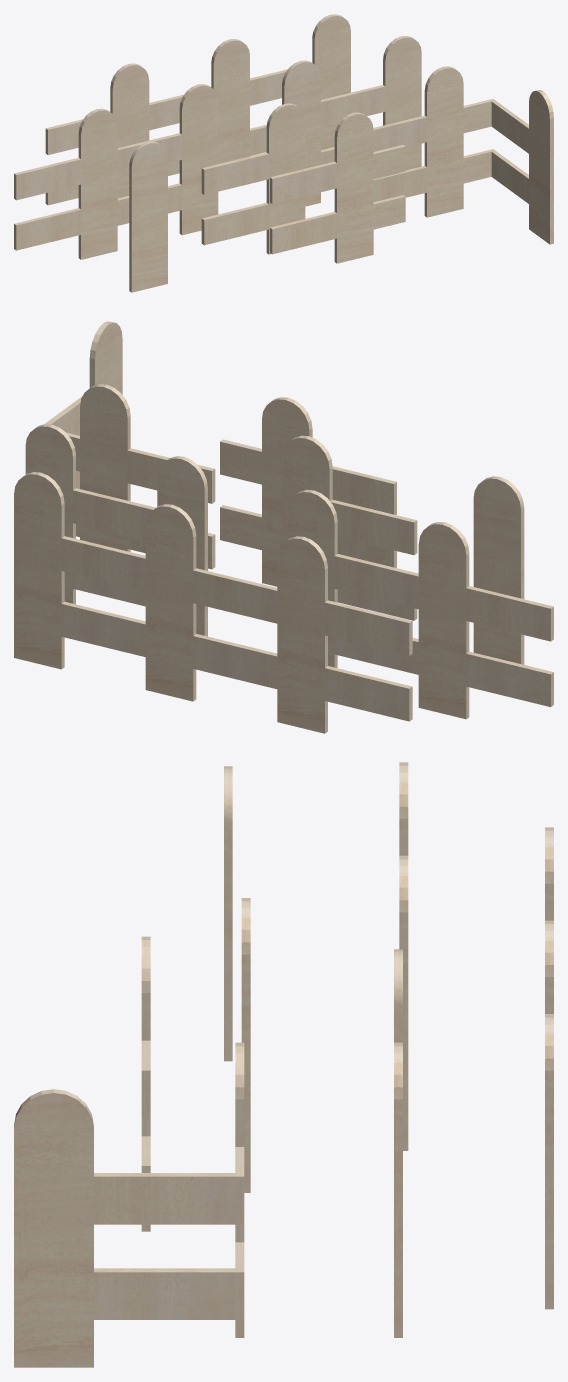
Rendered from Mom_Model_PopsicleFence_Vang.fbx.
3 views of the same model, one above another, from view 1: azimuth 30°, elevation 25°; view 2: azimuth 150°, elevation 25°; view 3: azimuth 270°, elevation 25° (orthographic). The views are drawn at different scales.
Visible parts, largest first — view 1: popsicleshort12, popsicleshort5, popsicleshort7, popsicleshort3, popsicleshort8, popsicleshort6, popsicleshort4, popsicleshort1, popsicleshort10, popsicleshort9, popsicleshort11, popsicleshort2; view 2: popsicleshort7, popsicleshort11, popsicleshort10, popsicleshort9, popsicleshort12, popsicleshort5, popsicleshort8, popsicleshort4, popsicleshort1, popsicleshort3, popsicleshort2, popsicleshort6; view 3: popsicleshort6, popsicleshort5, popsicleshort1, popsicleshort4, popsicleshort9, popsicleshort3, popsicleshort12, popsicleshort8, popsicleshort7, popsicleshort2, popsicleshort10, popsicleshort11.
Part boxes in pixels (box(x1,y1,x2,y2)): popsicleshort12: box(270, 112, 405, 263); popsicleshort5: box(373, 66, 494, 217); popsicleshort7: box(14, 108, 117, 259); popsicleshort3: box(201, 103, 305, 254); popsicleshort8: box(117, 84, 218, 235); popsicleshort6: box(491, 90, 553, 244); popsicleshort4: box(129, 141, 167, 292); popsicleshort1: box(320, 36, 421, 170); popsicleshort10: box(149, 39, 249, 175); popsicleshort9: box(249, 14, 350, 155); popsicleshort11: box(45, 63, 149, 205); popsicleshort2: box(282, 60, 320, 206); popsicleshort7: box(418, 522, 553, 719); popsicleshort11: box(277, 536, 412, 733); popsicleshort10: box(145, 504, 277, 701); popsicleshort9: box(14, 472, 145, 669); popsicleshort12: box(220, 397, 396, 586); popsicleshort5: box(66, 384, 215, 569); popsicleshort8: box(287, 489, 419, 674); popsicleshort4: box(473, 476, 524, 664); popsicleshort1: box(25, 424, 155, 606); popsicleshort3: box(282, 435, 417, 620); popsicleshort2: box(157, 456, 207, 636); popsicleshort6: box(45, 321, 122, 488); popsicleshort6: box(14, 1089, 235, 1367); popsicleshort5: box(235, 1042, 244, 1337); popsicleshort1: box(394, 1042, 402, 1337); popsicleshort4: box(224, 766, 232, 1061); popsicleshort9: box(545, 1014, 553, 1309); popsicleshort3: box(241, 898, 250, 1192); popsicleshort12: box(141, 936, 150, 1231); popsicleshort8: box(399, 855, 408, 1150); popsicleshort7: box(399, 762, 408, 855); popsicleshort2: box(394, 949, 402, 1042); popsicleshort10: box(545, 920, 553, 1013); popsicleshort11: box(545, 827, 553, 920).
Bounding box in the file's own units: 23.94 × 7.59 × 13.53.
1 material, 1 textured.
